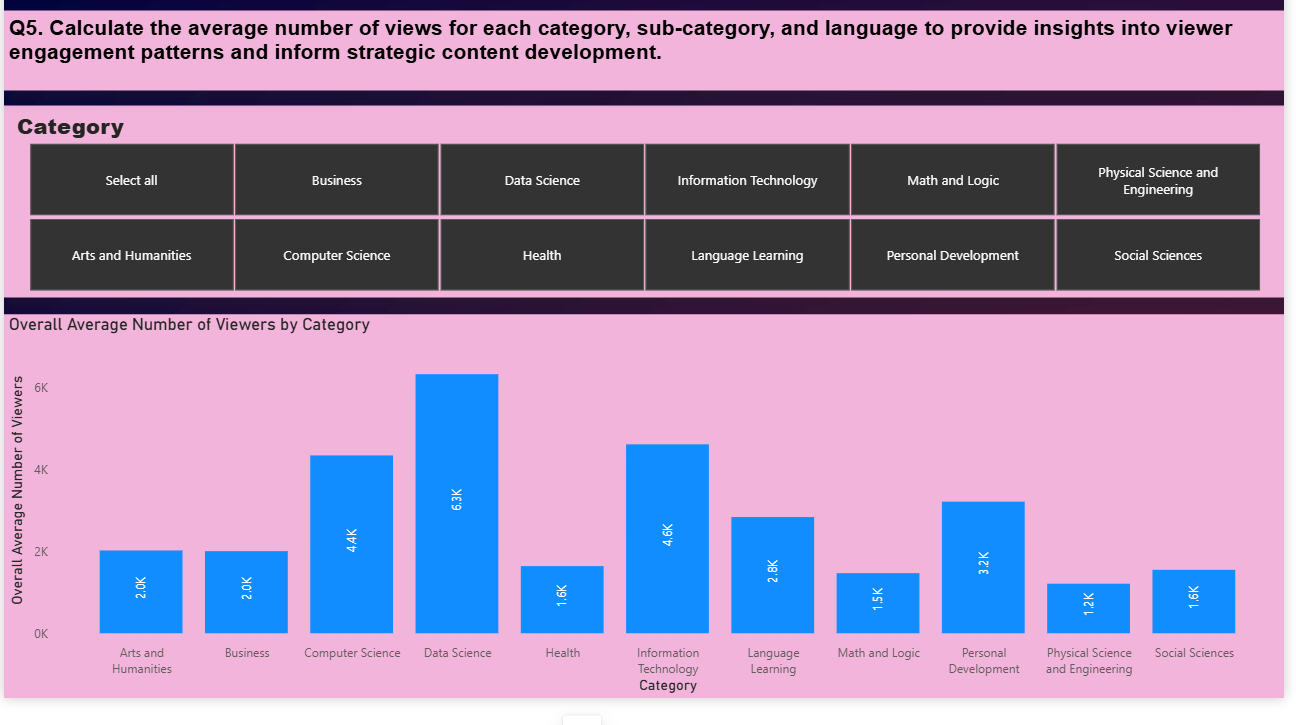

The page's visual inventory and layout, read from the dashboard file:
{"tool":"powerbi","page":{"name":"Q5","canvas":[1280,720],"ordinal":5},"visuals":[{"type":"slicer","fields":{"Values":["Online_Courses.Category"]},"box":[0,128,1280,192],"z":0},{"type":"clusteredColumnChart","fields":{"Category":["Online_Courses.Category","Online_Courses.Sub-Category","Online_Courses.Language"],"Y":["Online_Courses.Overall Average Number of Viewers"]},"box":[0,336,1280,384],"z":1000},{"type":"textbox","box":[0,32,1280,80],"z":2000}]}

Visuals, with their boxes in screenshot pixels (x1, y1, x2, y2), scaled from the page's 1280x720 canvas onto the 1296x725 screenshot:
slicer - Online_Courses.Category: [0, 129, 1295, 322]
clusteredColumnChart - Online_Courses.Category x Online_Courses.Sub-Category: [0, 338, 1295, 724]
textbox: [0, 32, 1295, 113]
